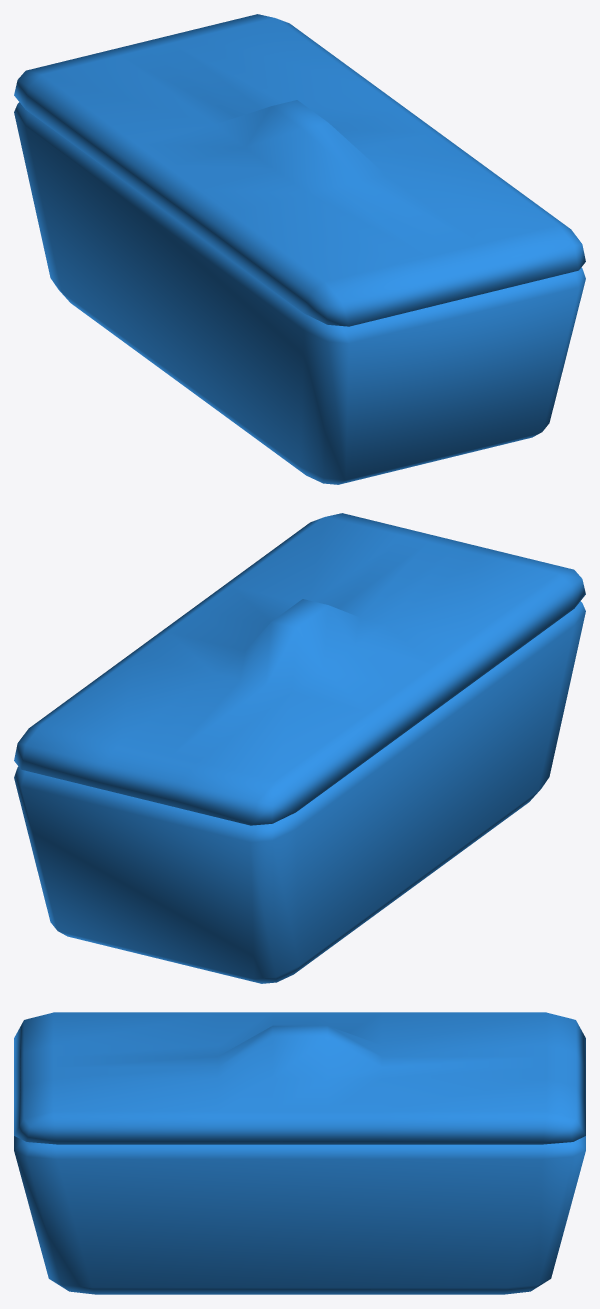
File: Glass_Container.fbx
3 renders of one model, top to bottom at view 1: azimuth 30°, elevation 25°; view 2: azimuth 150°, elevation 25°; view 3: azimuth 270°, elevation 25°, orthographic. The views are drawn at different scales.
Parts seen in each view (by area): view 1: Glass_Containaer; view 2: Glass_Containaer; view 3: Glass_Containaer.
Part boxes in pixels (<box>): Glass_Containaer: <box>14,14,585,484</box>; Glass_Containaer: <box>14,513,585,983</box>; Glass_Containaer: <box>14,1012,585,1294</box>.
Bounding box in the file's own units: 58.81 × 52.44 × 124.
